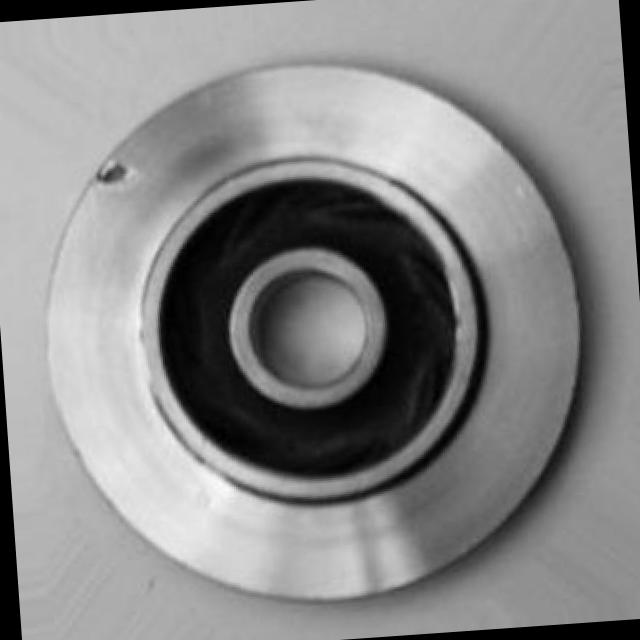Defect: (90, 155, 138, 187)
